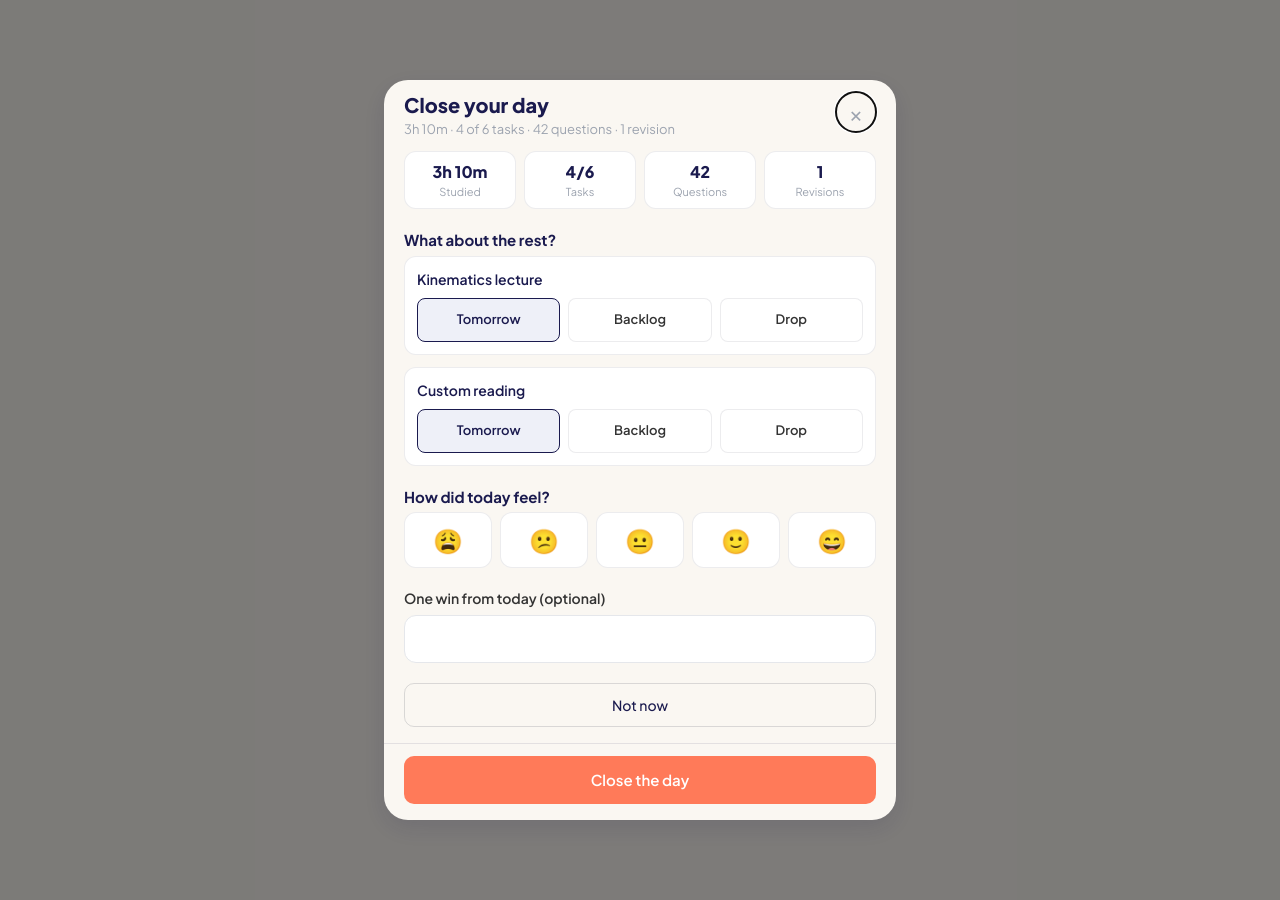
Day Close › sends the choices, the mood and the win, and then shows XP, streak and where the student stands
Expected: the element with test id "day-summary" shows "3h 10m", [432,161,487,182]
Expected: the radio button with test id "choice-backlog" below "Custom reading" is enabled, [568,409,712,453]
Click the radio button with test id "choice-backlog" below "Kinematics lecture": {"x": 640, "y": 320} [568,298,712,342]
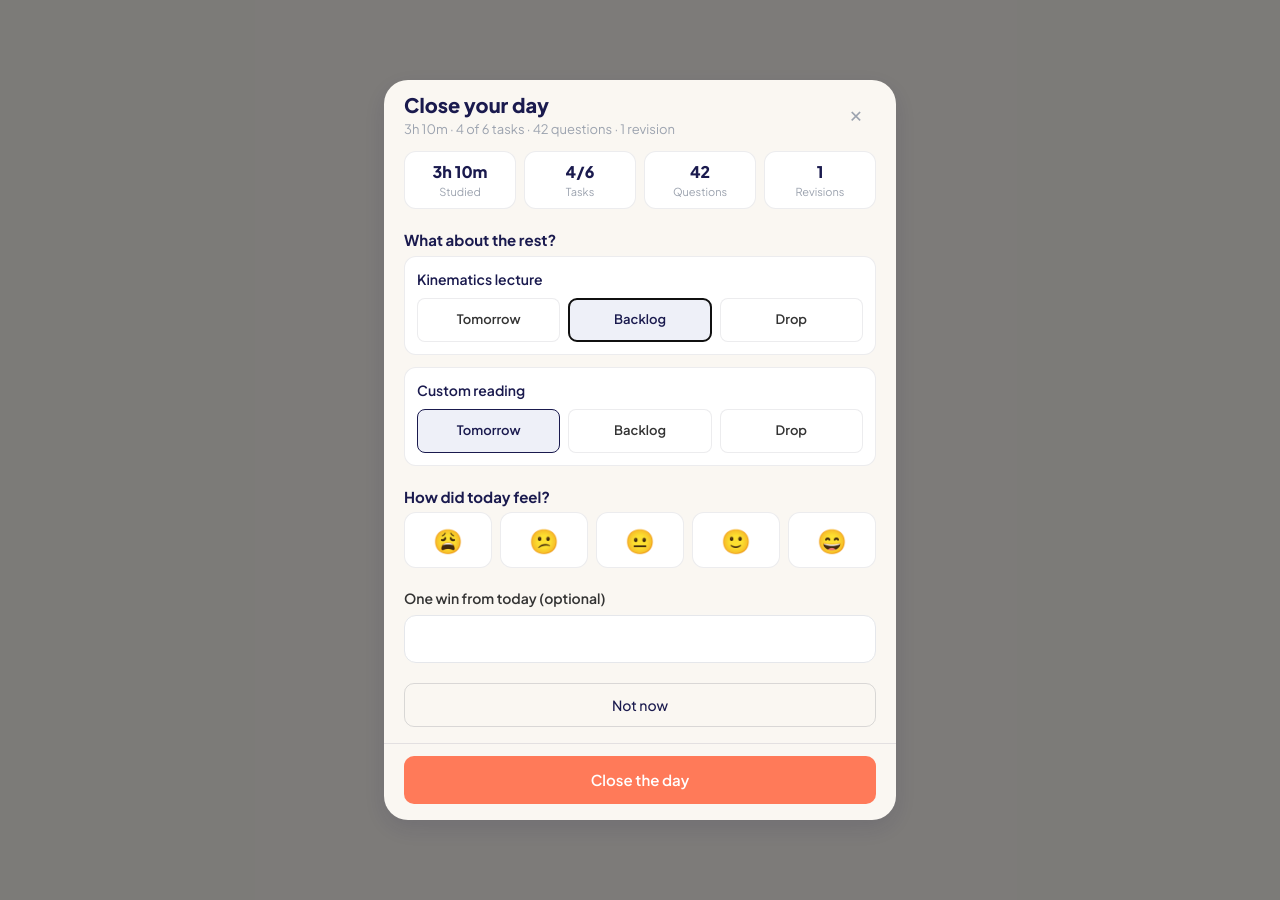
Click the radio button with test id "choice-drop" below "Custom reading": {"x": 791, "y": 431} [720,409,863,453]
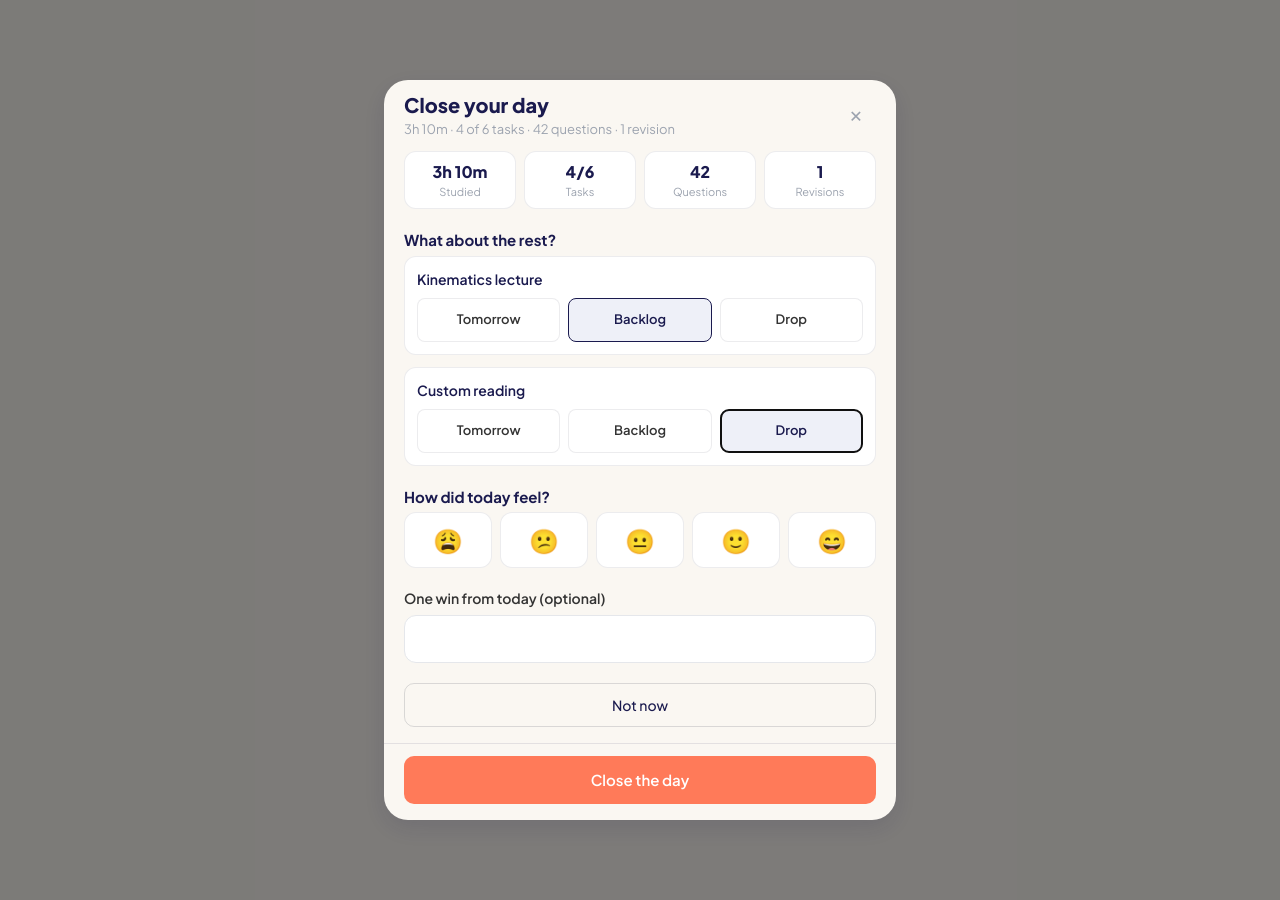
Click the radio button with test id "mood-4": {"x": 736, "y": 540} [692,512,780,568]
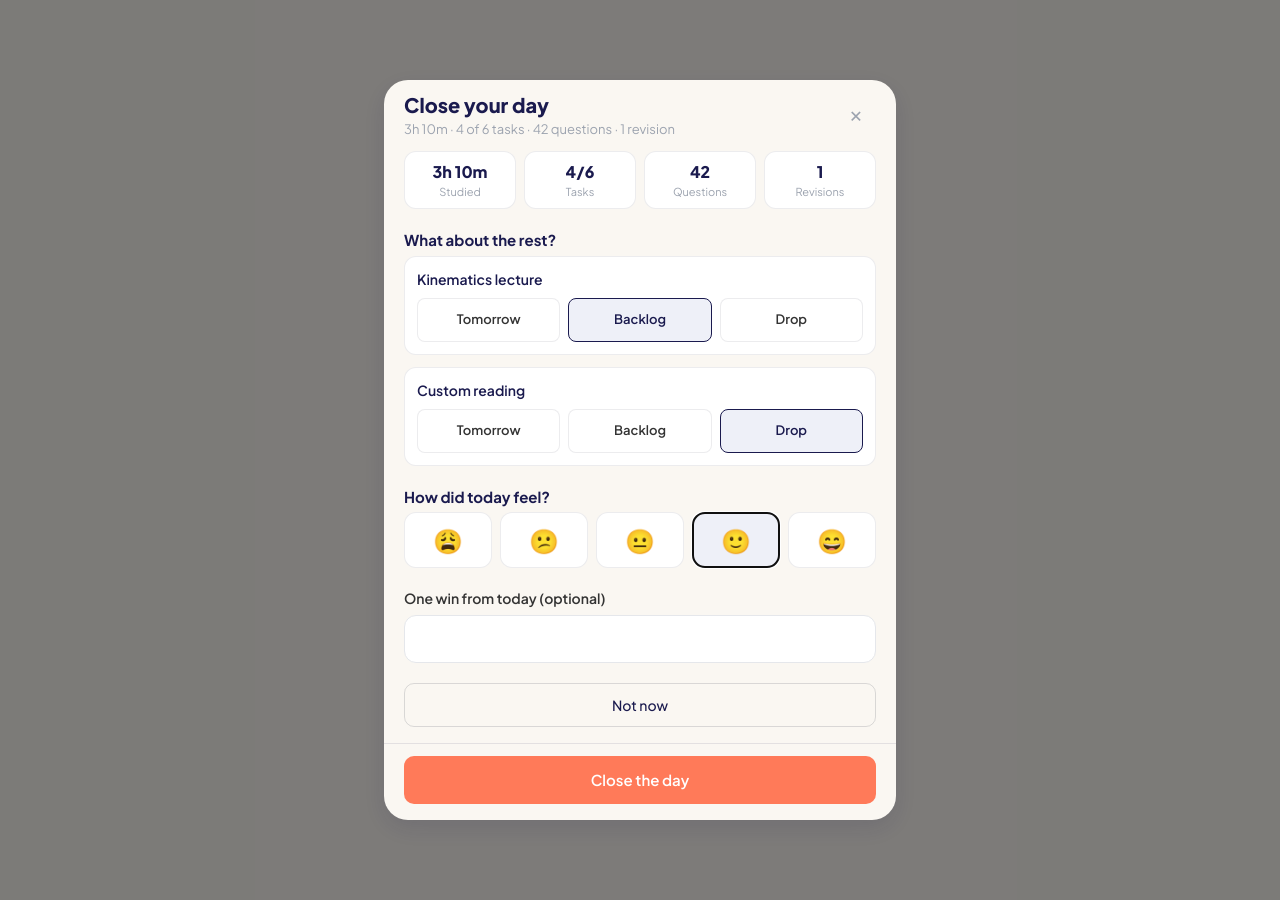
In the field with test id "day-win": {"x": 640, "y": 639} [404,615,876,663], type "Finished kinematics"
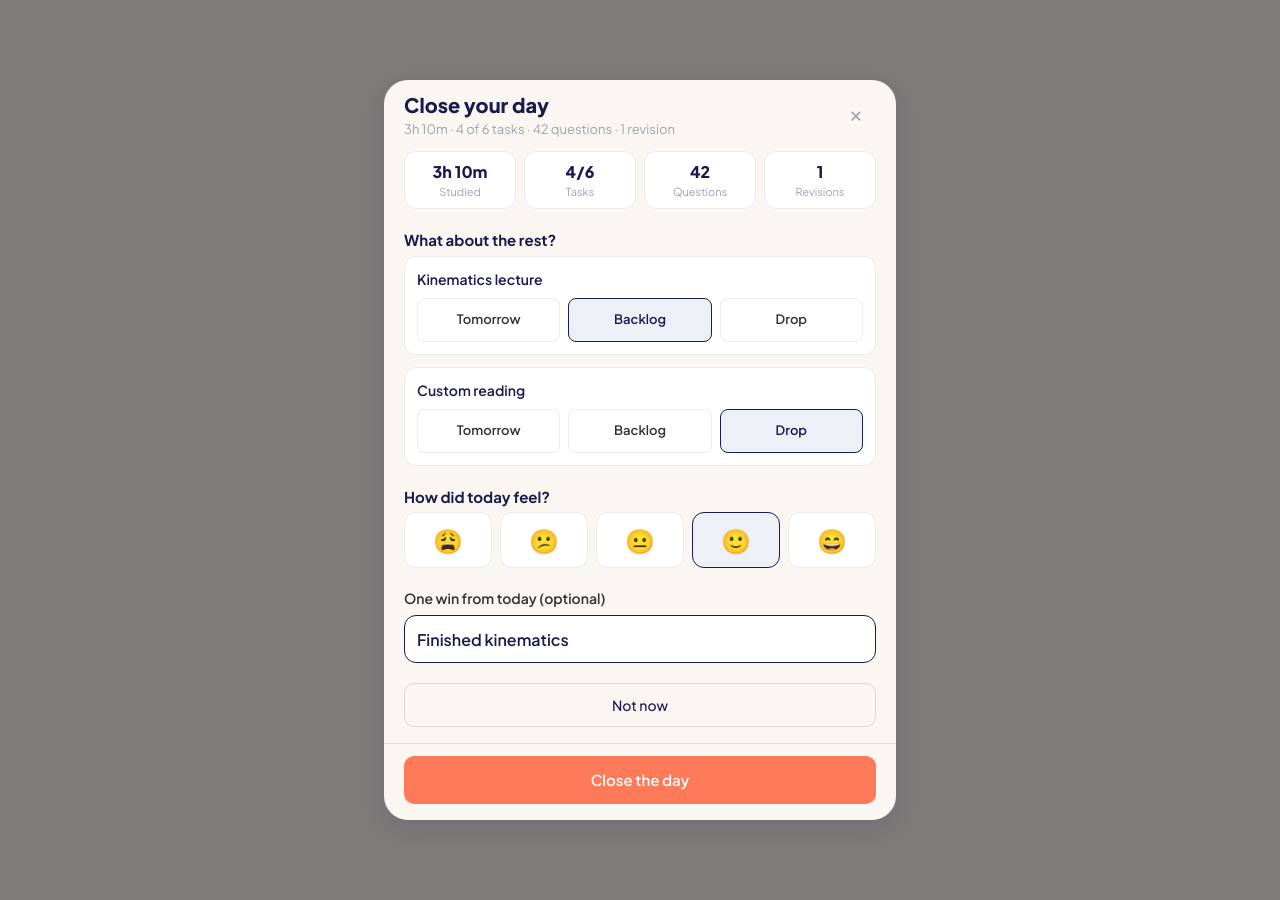
Click the button with test id "day-close-submit": {"x": 640, "y": 780} [404,756,876,804]
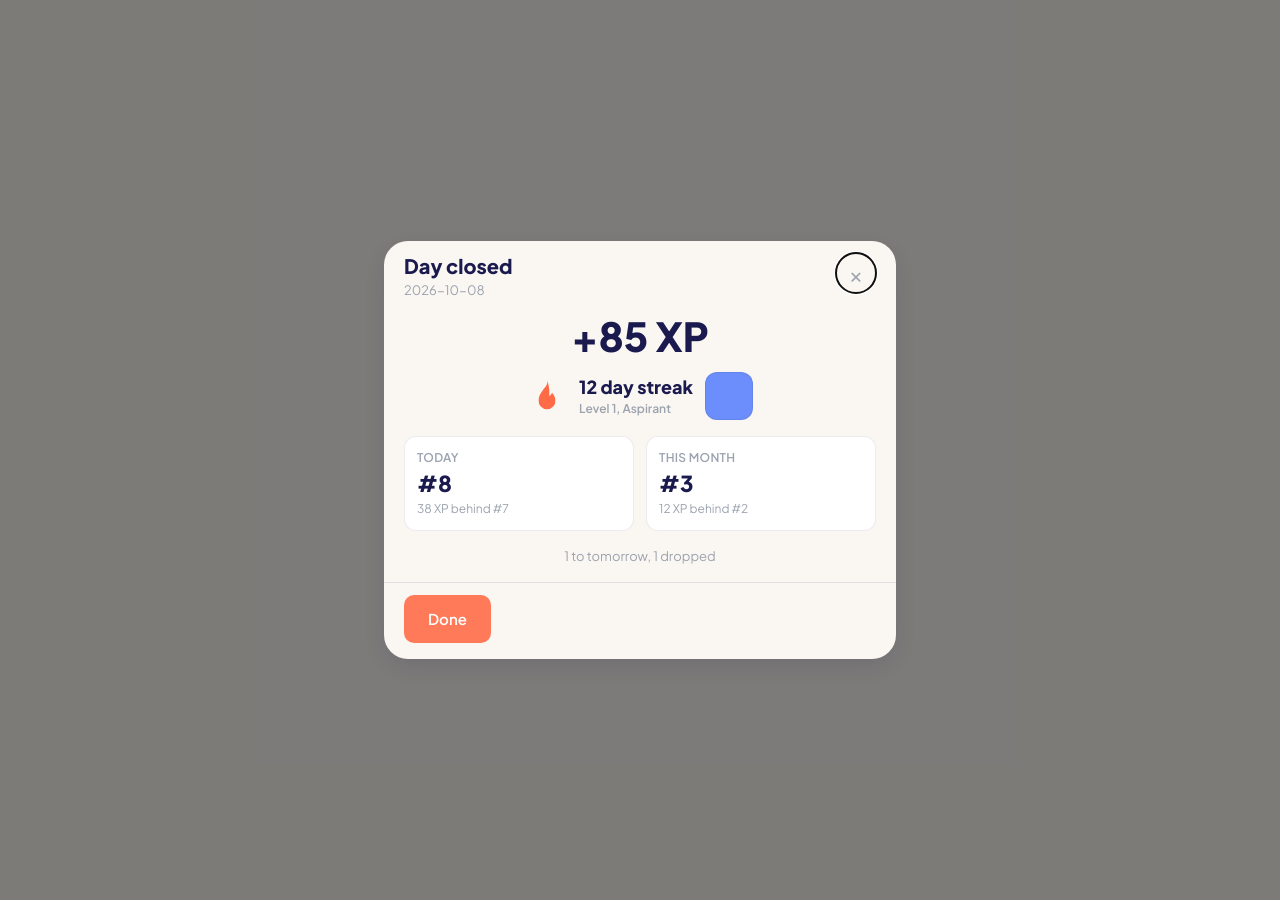
Result: the dialog with test id "day-close-reward" is shown at [384,241,896,659]
Result: the text with test id "rank-today" reads "#8" at [417,469,452,497]
Result: the text "38 XP behind #7" is shown at [417,501,509,516]
